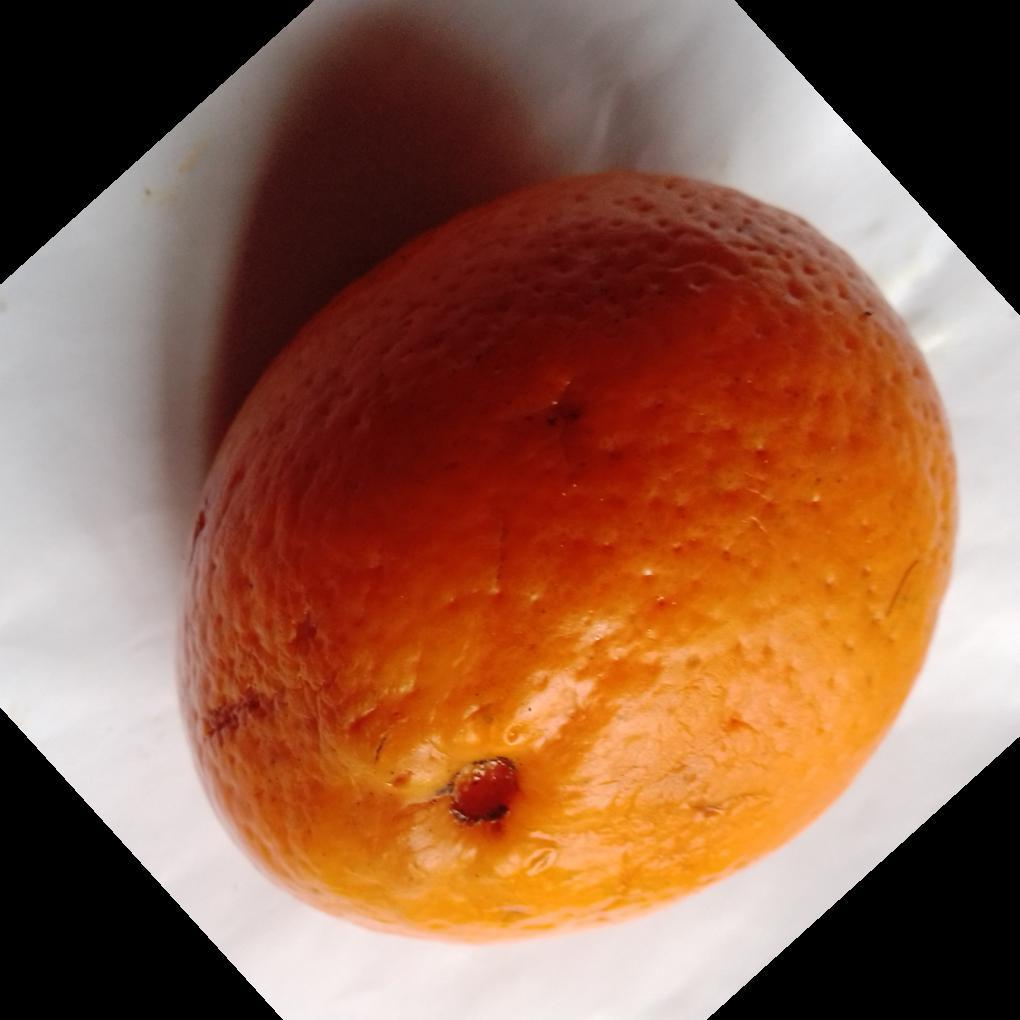FreshOrange: (169, 169, 961, 950)
